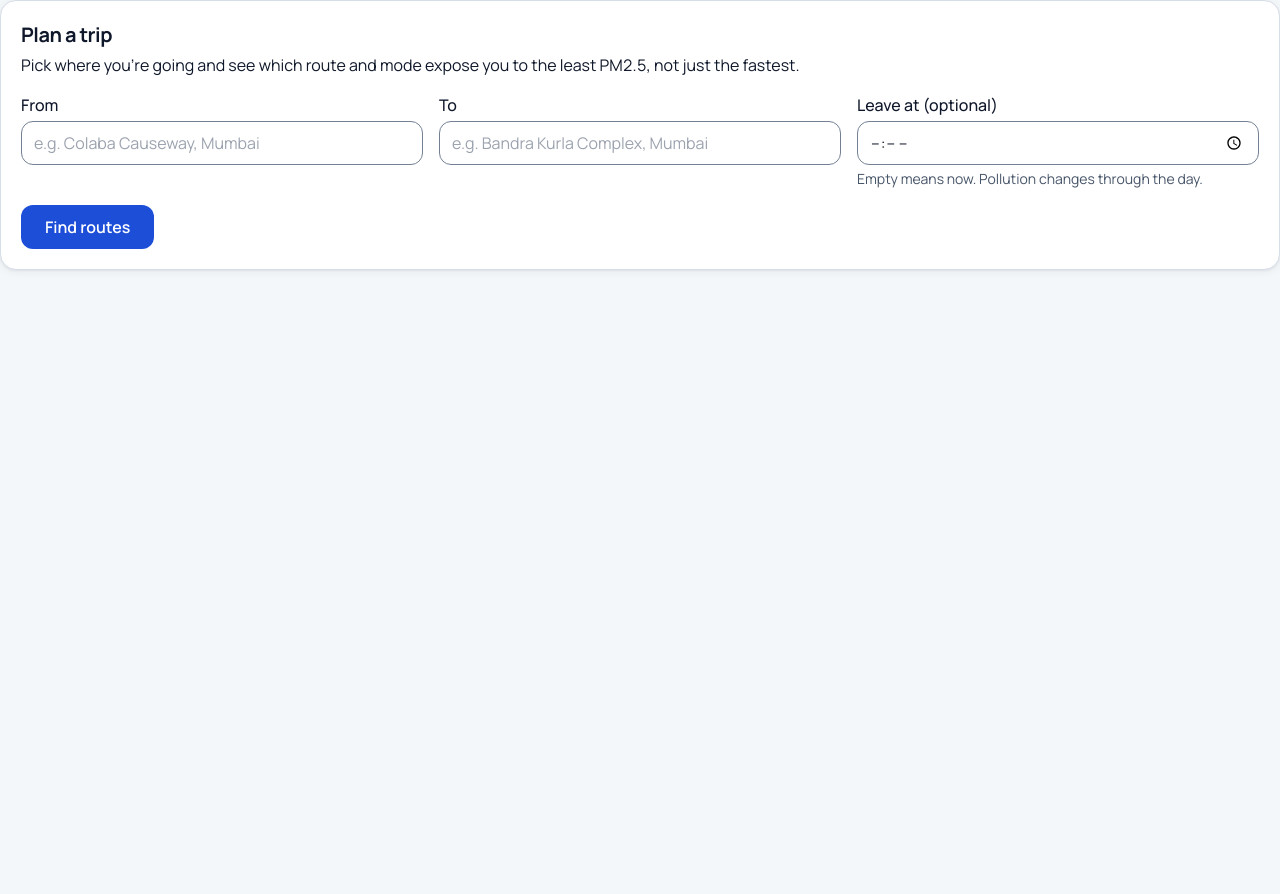
Scenario: RoutePlanner › sends both places and the chosen language, then shows the results
The width and height of the screenshot is (1280, 894).
Type "Colaba Causeway, Mumbai" into the field labelled "From" at point(222, 143), box [21, 121, 423, 165]
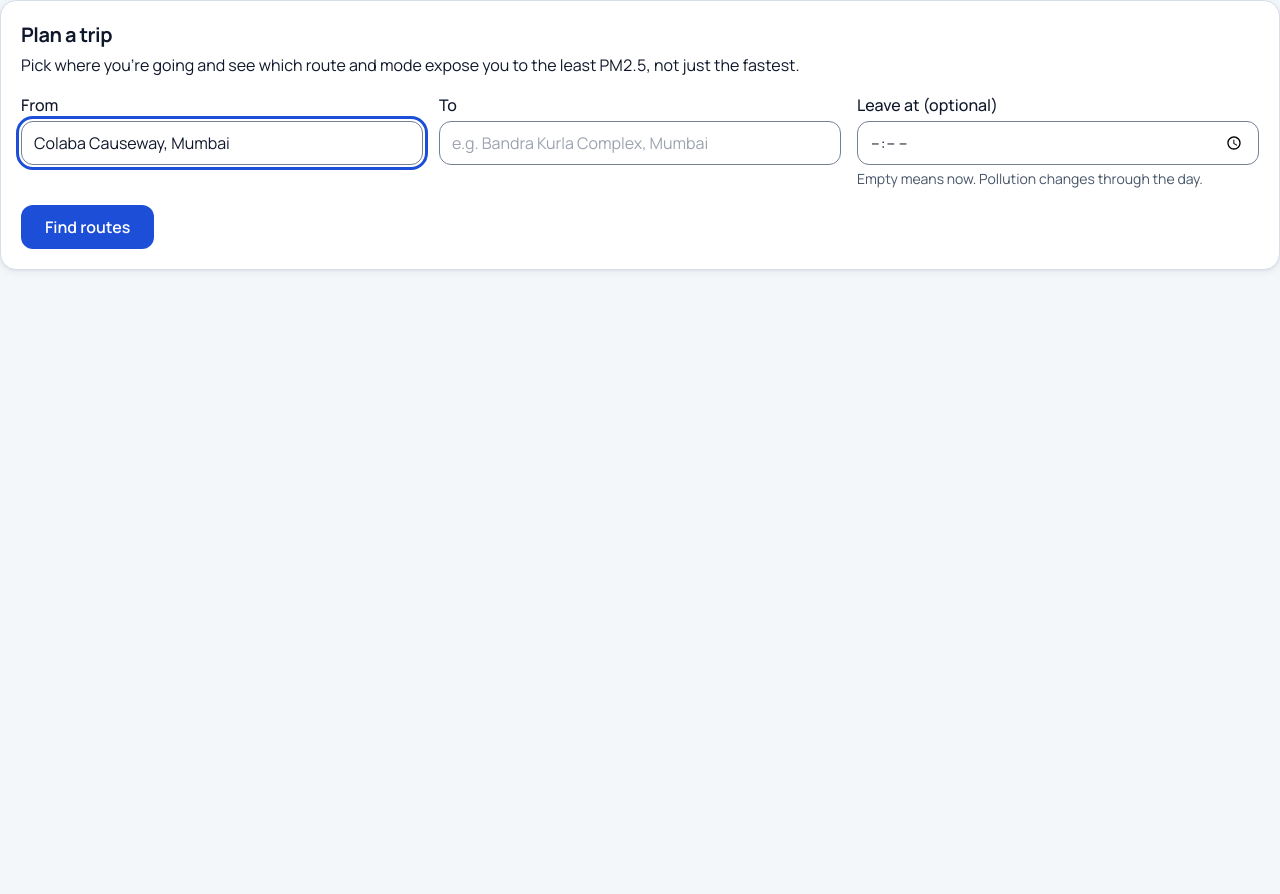
Type "Bandra Kurla Complex, Mumbai" into the field labelled "To" at point(640, 143), box [439, 121, 841, 165]
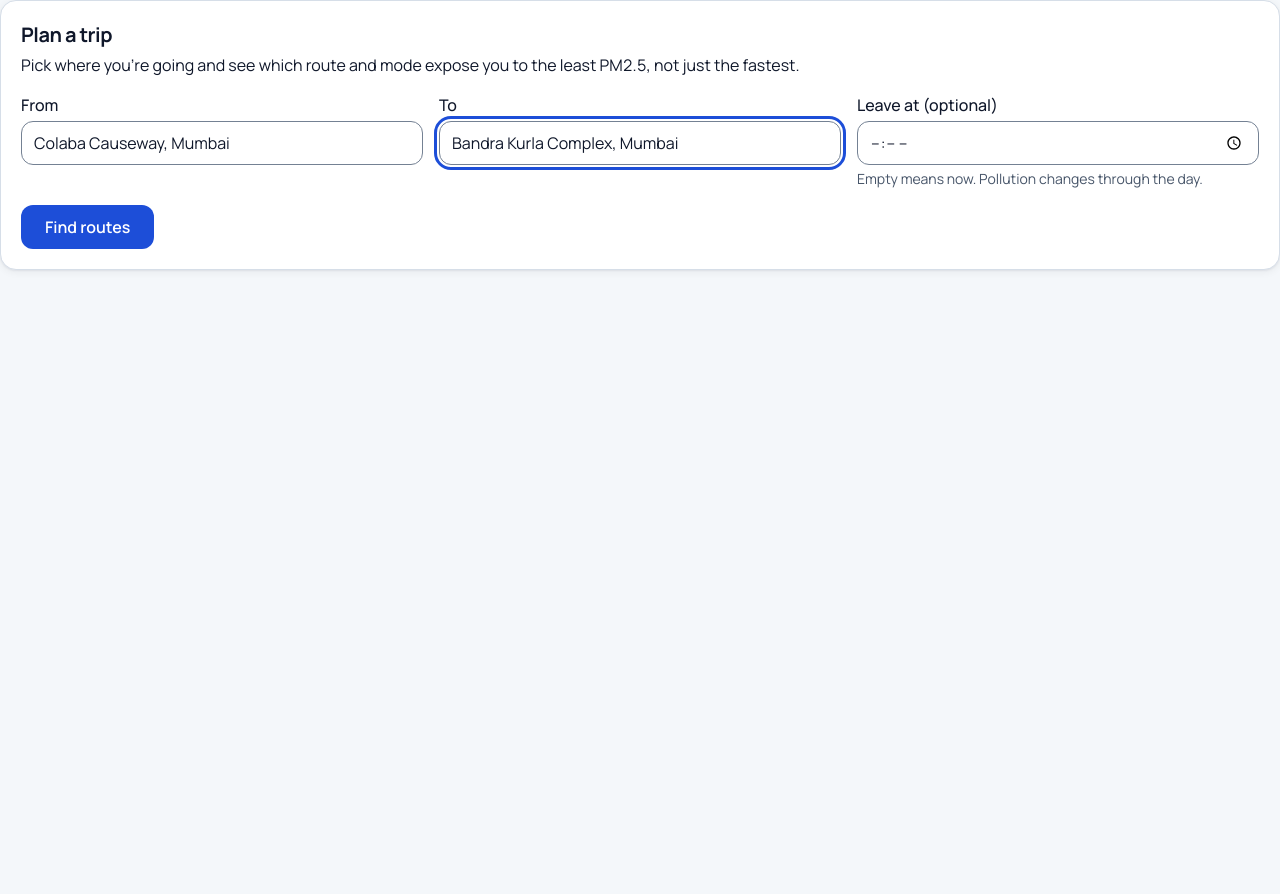
Click the button "Find routes" at point(88, 227), box [21, 205, 154, 249]
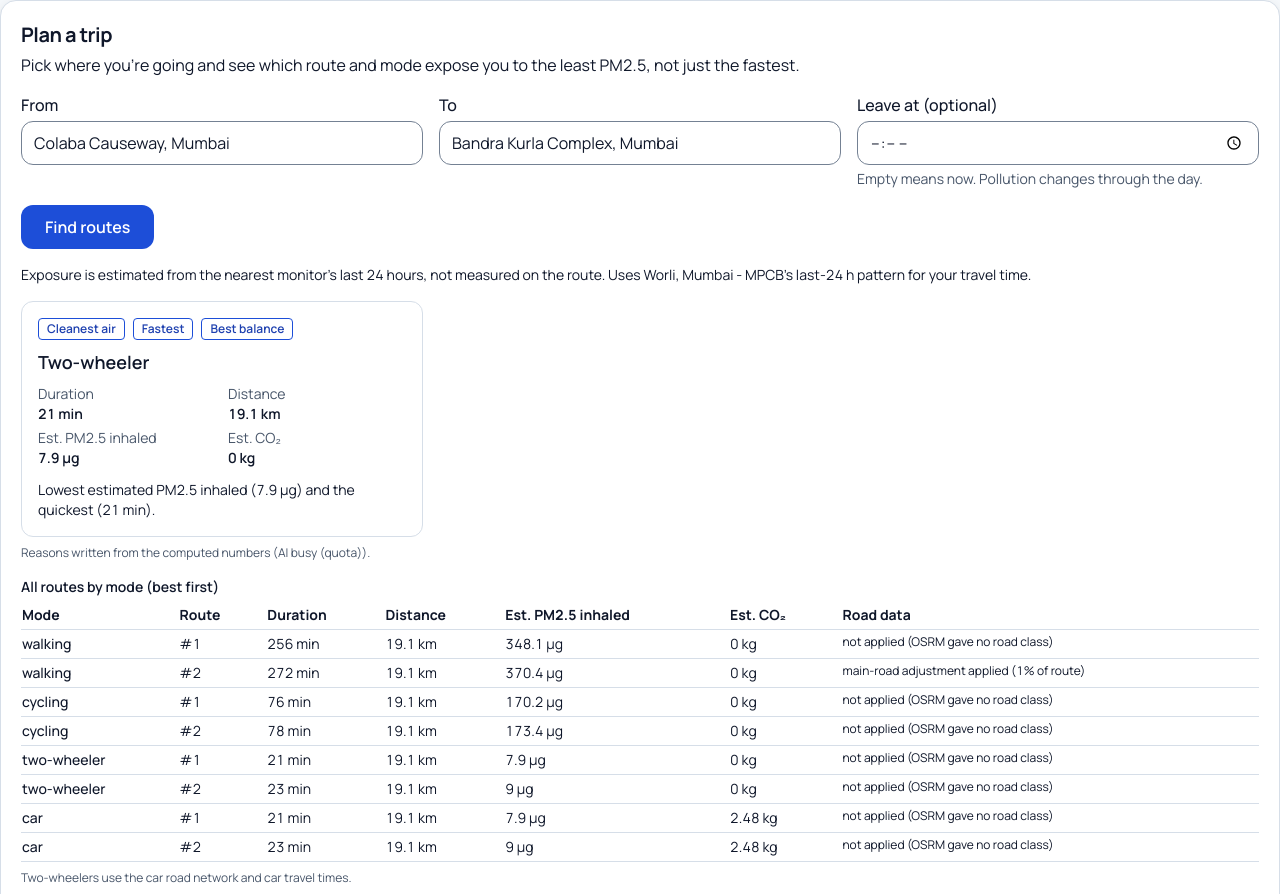
Result: the text "Cleanest air" is shown at [38, 318, 125, 340]
